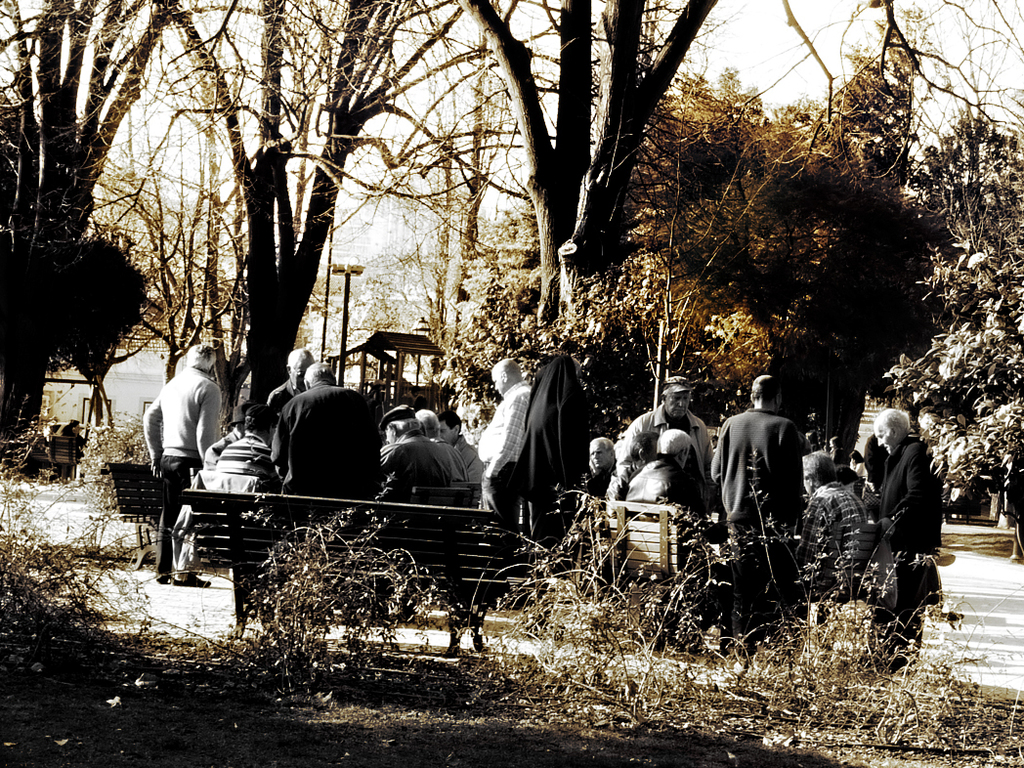Tree: (0, 0, 1003, 626)
